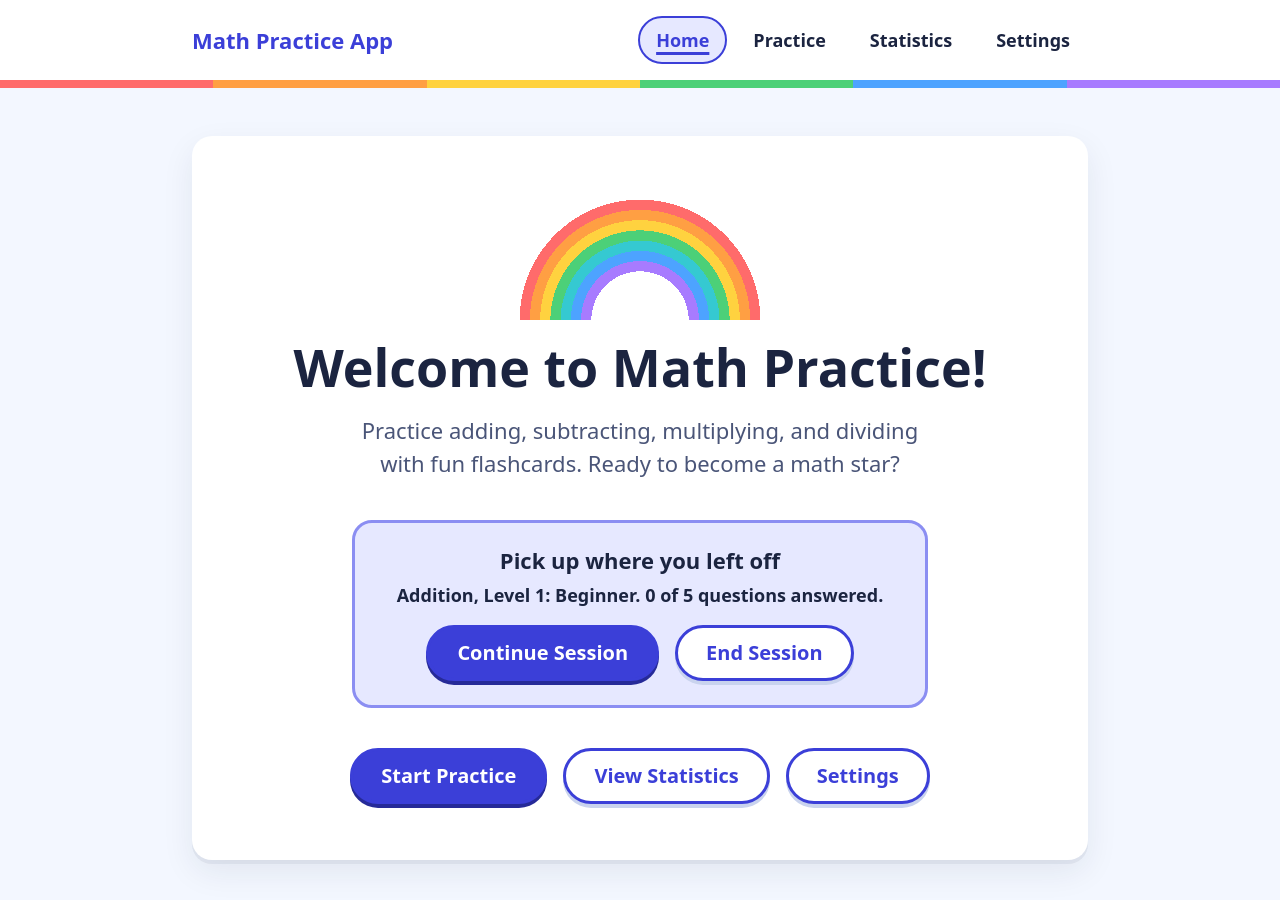
Test: ResumeSession on the home page › End Session › throws away a session with no answers, without asking
Click the button "End Session" at [764, 653], box 675,625 -> 854,681
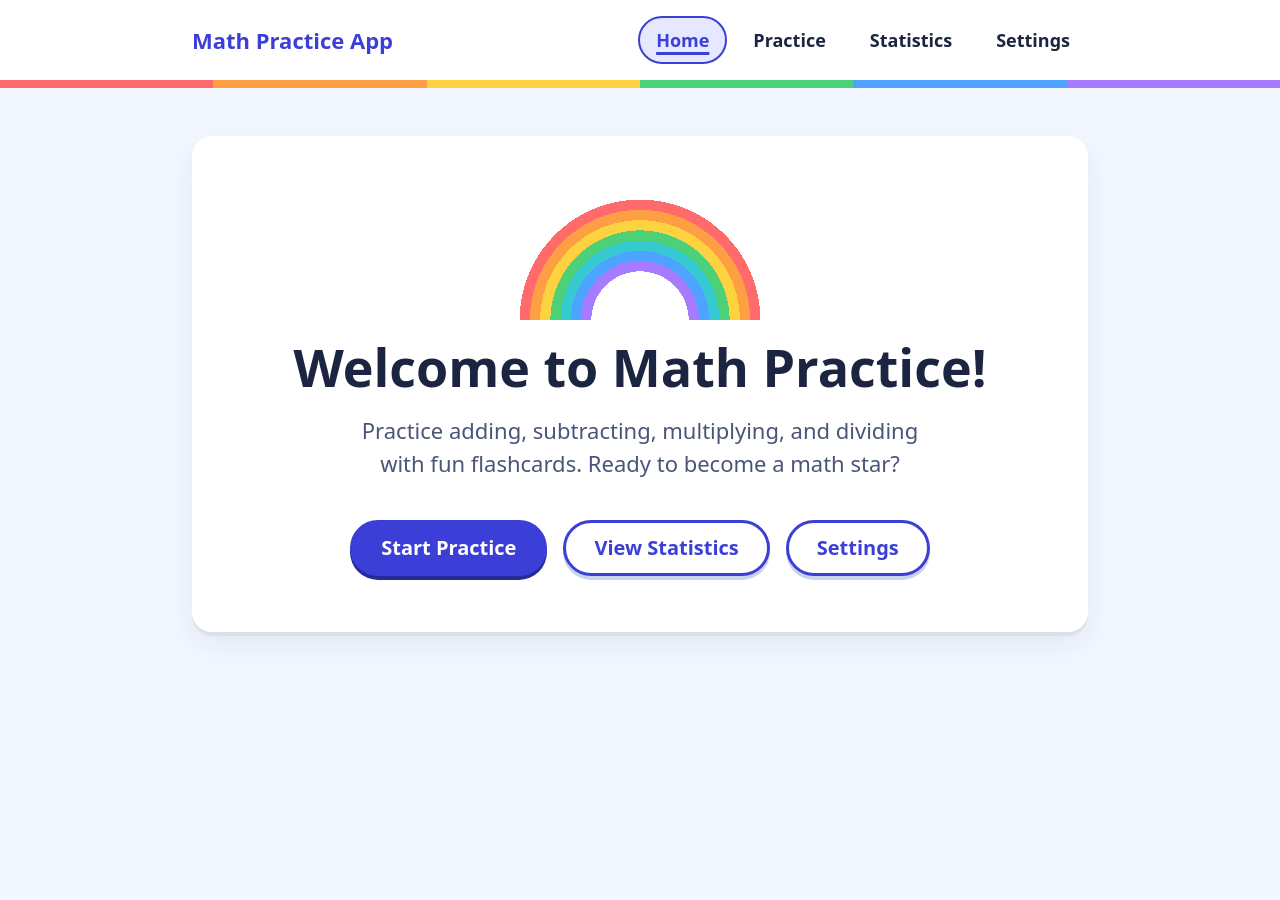
Result: the heading "Pick up where you left off" is gone
